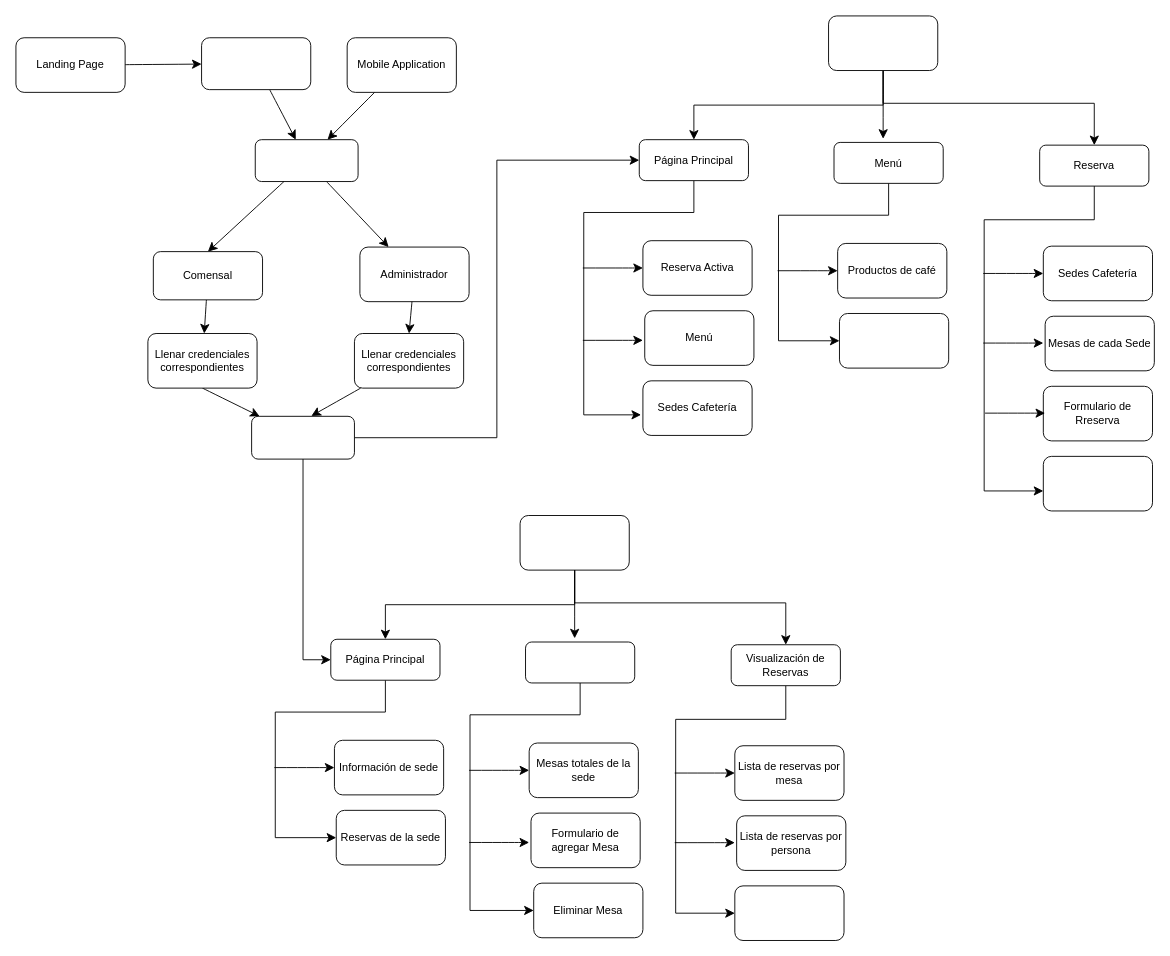
Image size: 1170x956. Some labels were removed from this diagram. Each missing label, with the centre of its shape:
"Crear cuenta" belongs at point (306, 160).
"Gestión Mesas" belongs at point (580, 662).
"Iniciar Sesión" belongs at point (302, 437).
"Lista total de reservas" belongs at point (789, 912).
"Panel de administrador" belongs at point (574, 542).
"Panel de comensal" belongs at point (883, 43).
"Productos de Sandwich" belongs at point (894, 340).
"Visualización de dirección de sede en Mapa" belongs at point (1097, 483).
"Web Application" belongs at point (256, 63).
